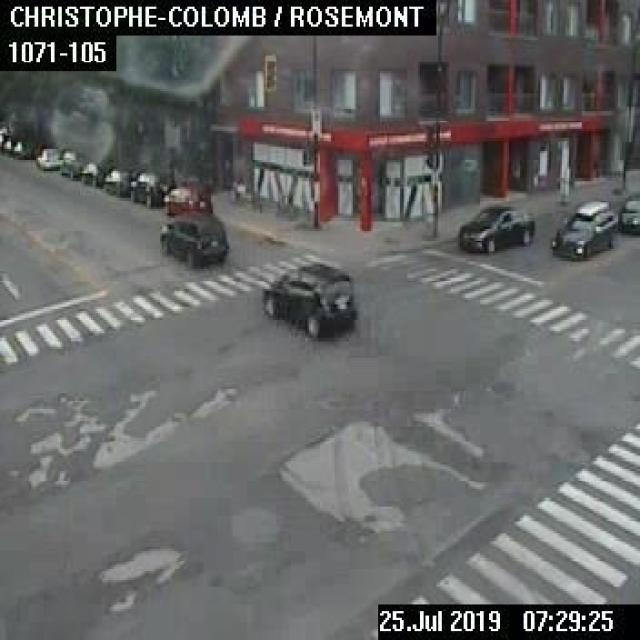vehicle: (260, 261, 355, 337), (549, 197, 617, 258), (457, 203, 534, 253), (159, 213, 227, 266), (129, 171, 173, 205), (163, 185, 211, 215), (80, 160, 113, 186), (59, 150, 89, 177), (618, 194, 638, 234), (102, 168, 130, 195), (34, 147, 62, 169)
